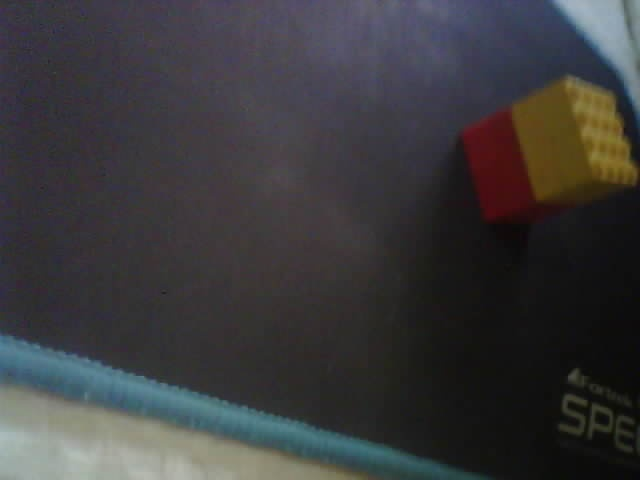lego: (458, 73, 637, 225)
